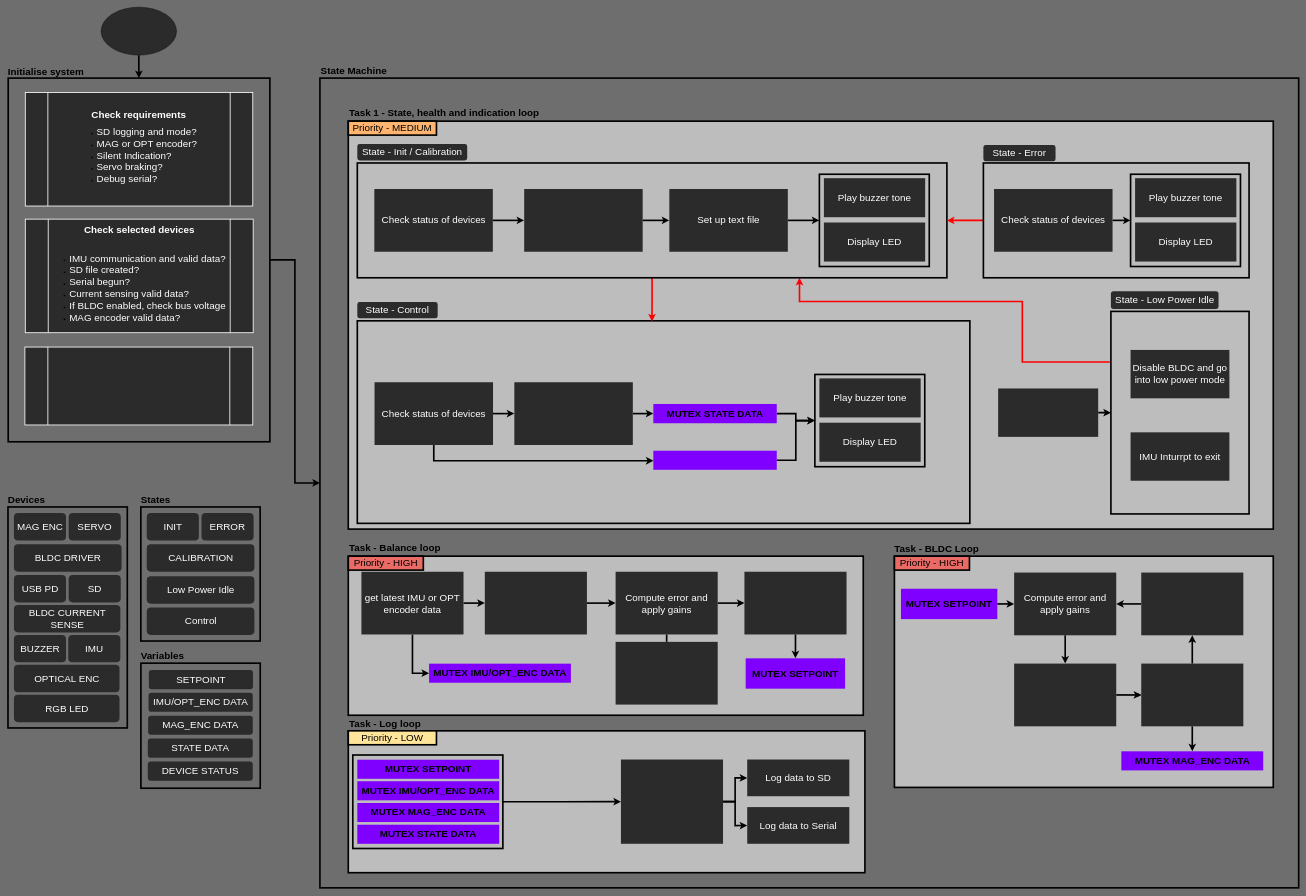
This 1306x896 diagram has some shape labels left out. The centre of each missing label's shape, as x and y in pixels:
"Build string" goes at (x=672, y=801).
"Device calibration IMU calibration? Magnetic encoder calibration?" goes at (x=138, y=385).
"Drive output" goes at (x=1065, y=694).
"get latest MAG data" goes at (x=1192, y=694).
"If Angle of cube is above some threshold, set output to zero" goes at (x=666, y=673).
"If any critical errors, halt balance and BLDC loops and enter ERROR state" goes at (x=573, y=413).
"If movement under threshold for a period" goes at (x=1048, y=412).
"Load calibration" goes at (x=583, y=220).
"MUTEX DEVICE STATUS" goes at (x=715, y=460).
"START" goes at (x=139, y=31).
"update filter" goes at (x=1192, y=603).
"update filter (Kalman or complementary)" goes at (x=536, y=603).
"update target motor velocity" goes at (x=795, y=603).
